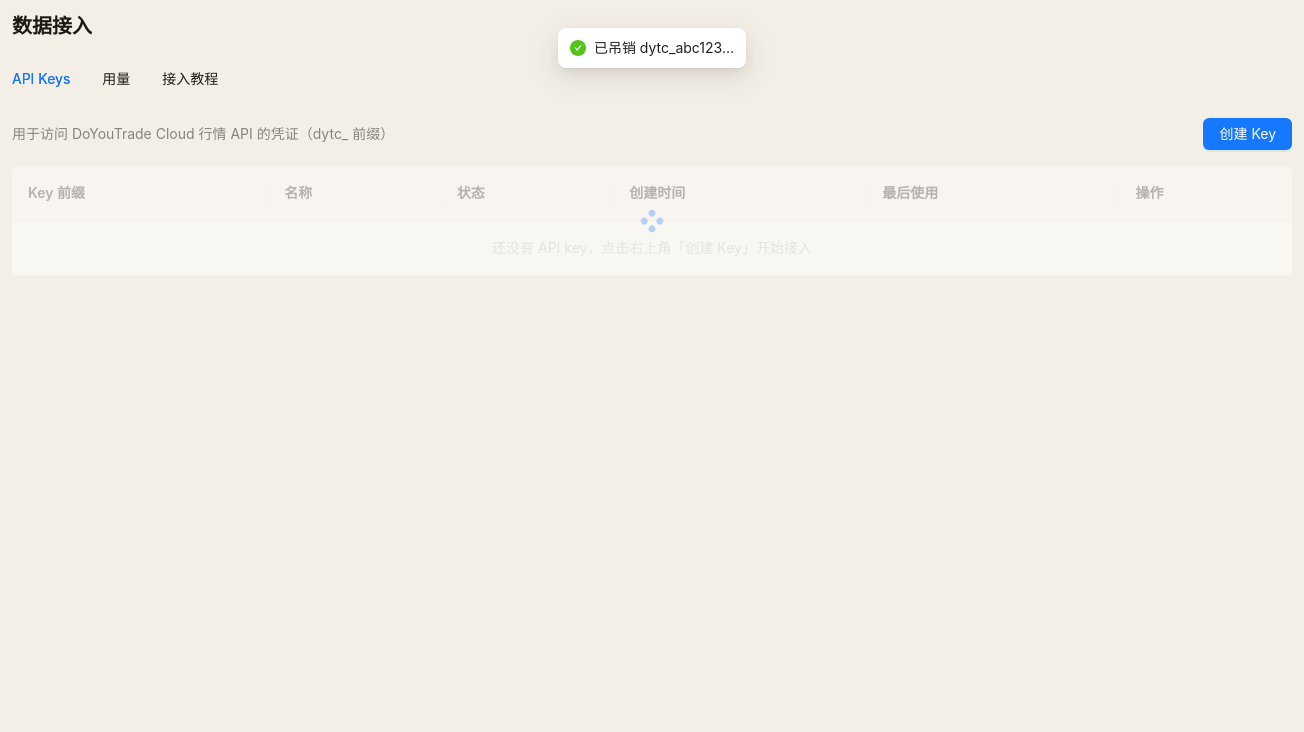
Test: DataConsolePage › shows a retry-able error when usage fails to load
Click the tab "用量": (116,79) [102,68,130,90]
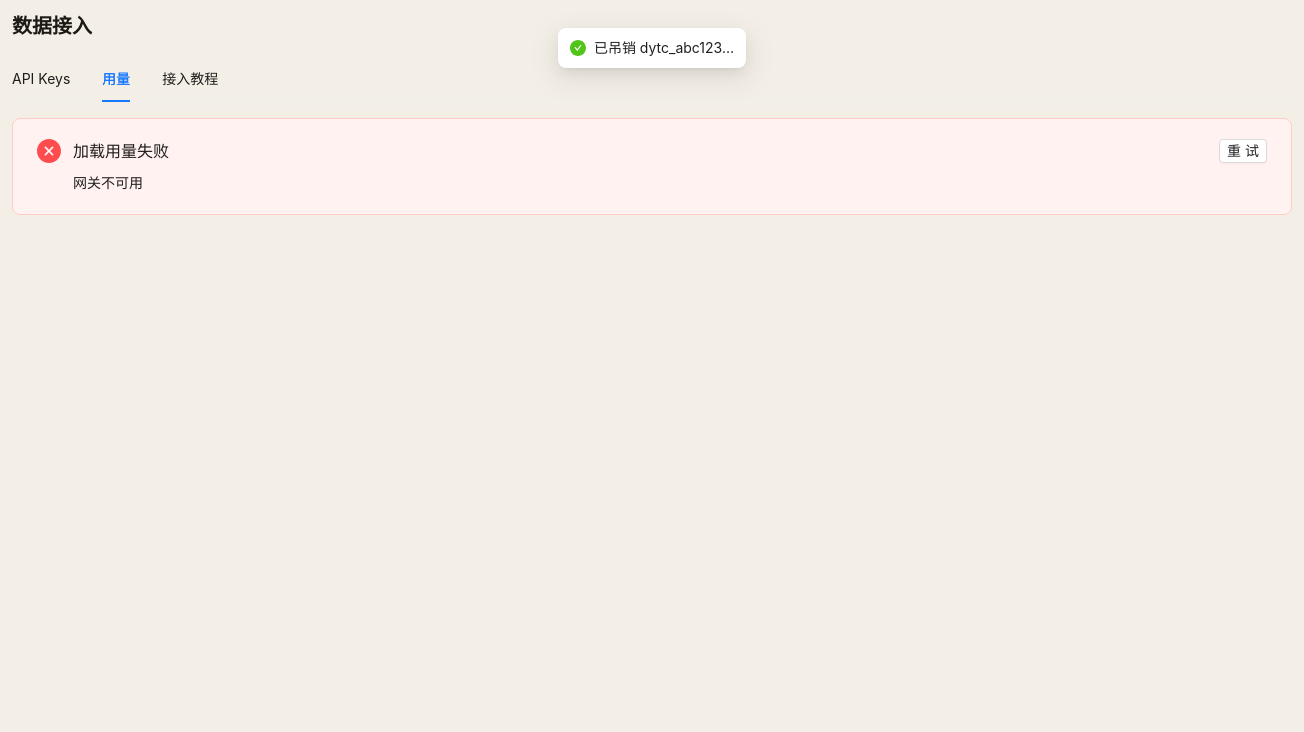
Expected: the text "加载用量失败" is shown, [73,141,169,161]
Click the button "重 试": (1243,151) [1219,139,1267,163]
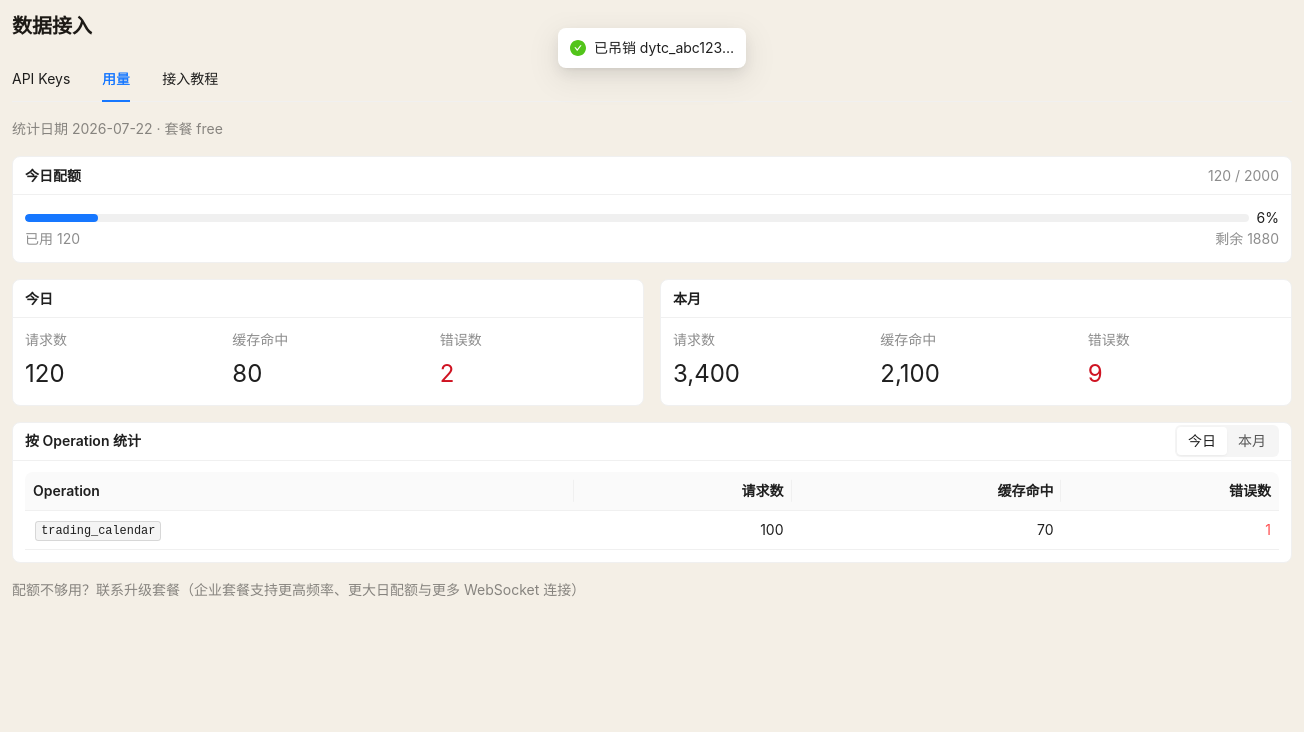
Expected: the text "今日配额" is shown, [25,166,81,184]
